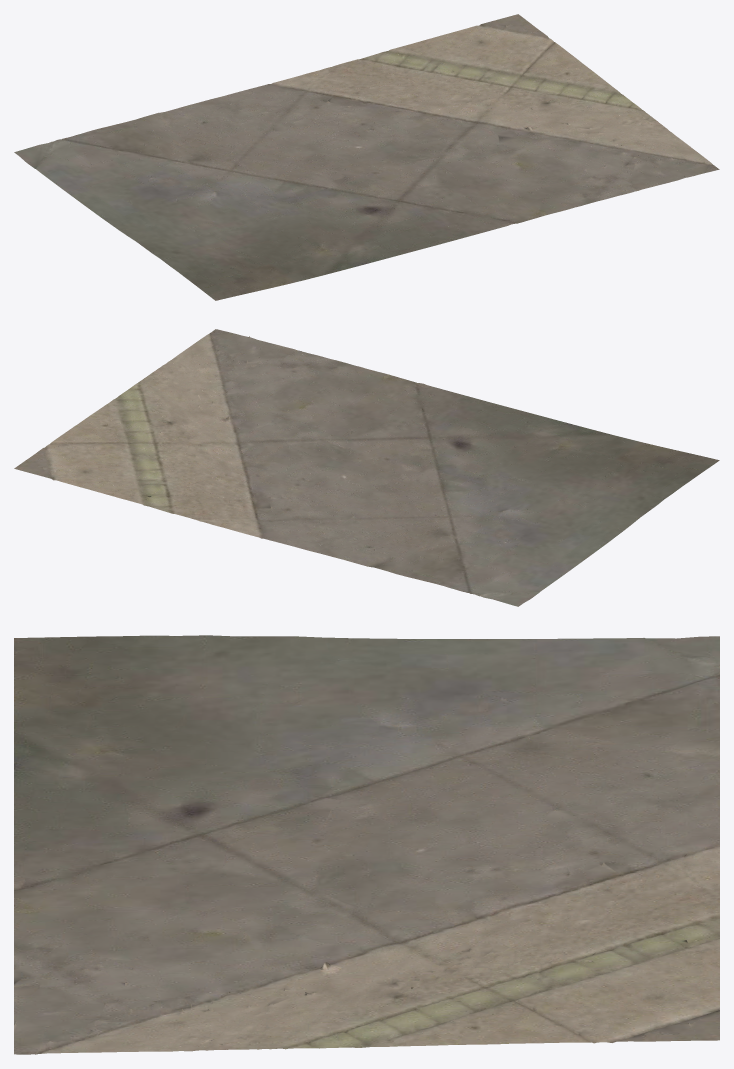
The picture shows the model from 3 angles, top to bottom: view 1: azimuth 30°, elevation 25°; view 2: azimuth 150°, elevation 25°; view 3: azimuth 270°, elevation 25°; orthographic projection. The views are drawn at different scales.
Bounding box in the file's own units: 4.57 × 0.1542 × 3.16.
Materials: 1 (1 with a texture image).
